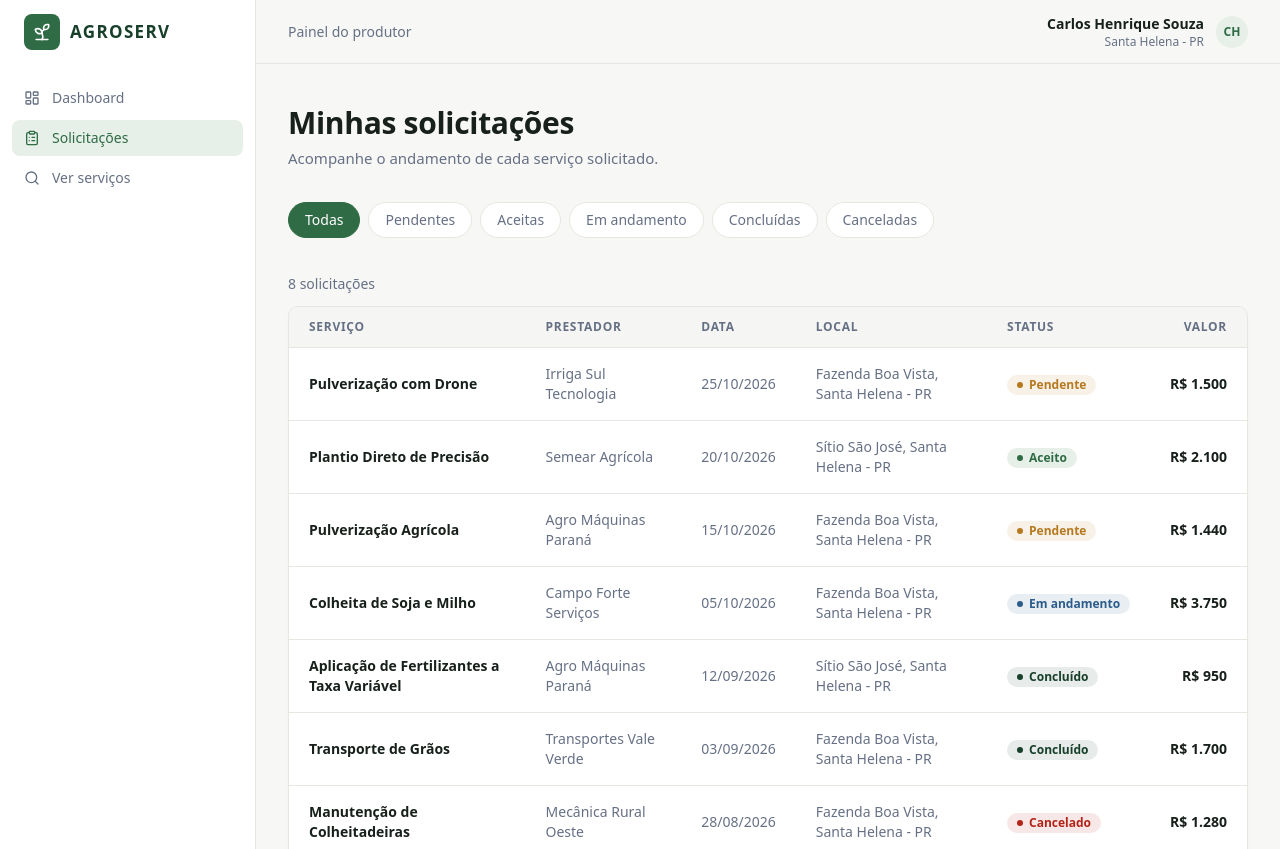
RequestsPage › lists all requests and filters by status
Expected: the heading "Minhas solicitações" is shown, [288,102,574,143]
Expected: the text "8 solicitações" is shown, [288,274,375,293]
Click the button "Concluídas".
click(765, 220)  # box [712,202,818,238]
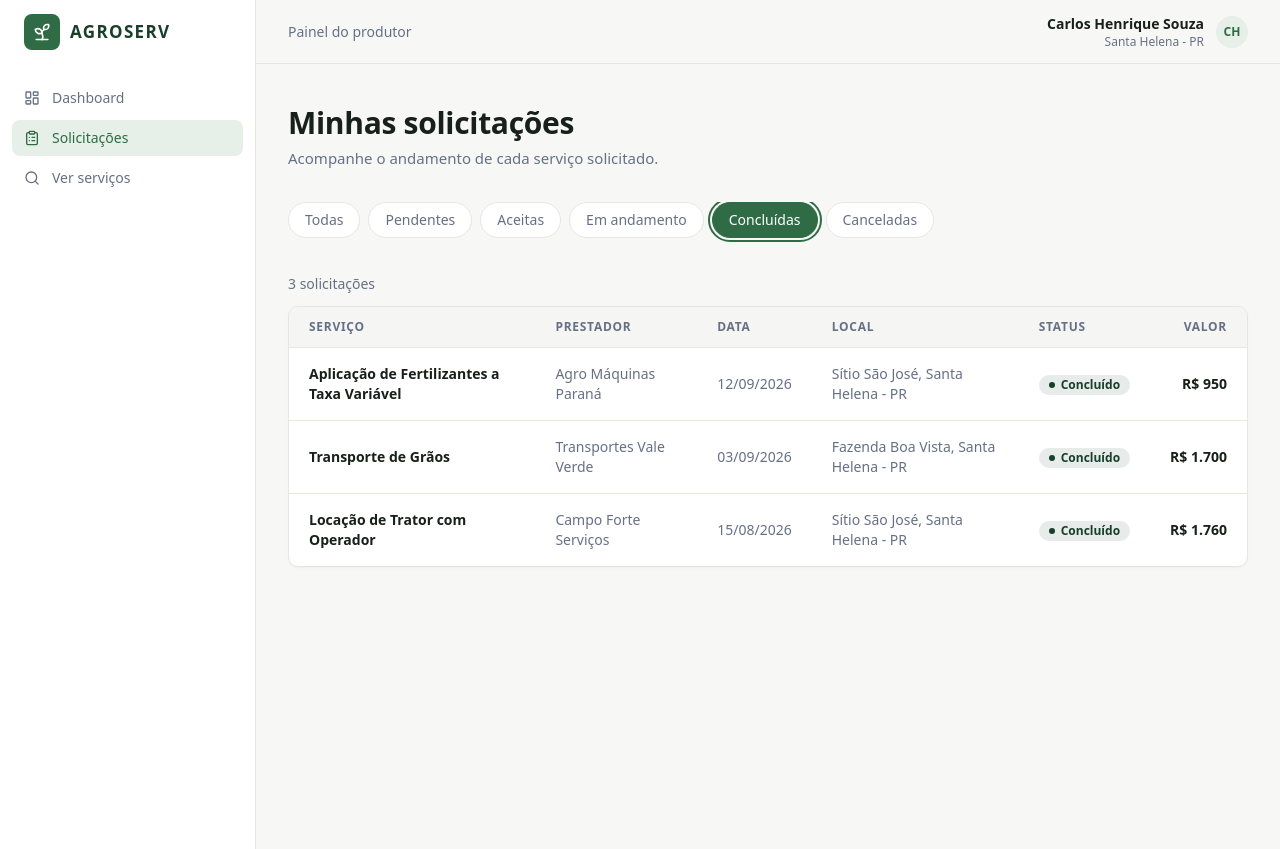
Result: the text "3 solicitações" is shown at [288,274,375,293]
